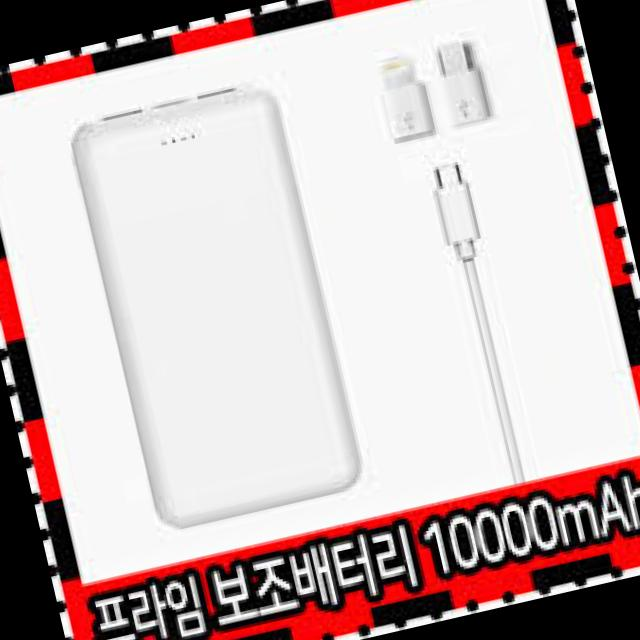portable-charger: (63, 73, 370, 536)
